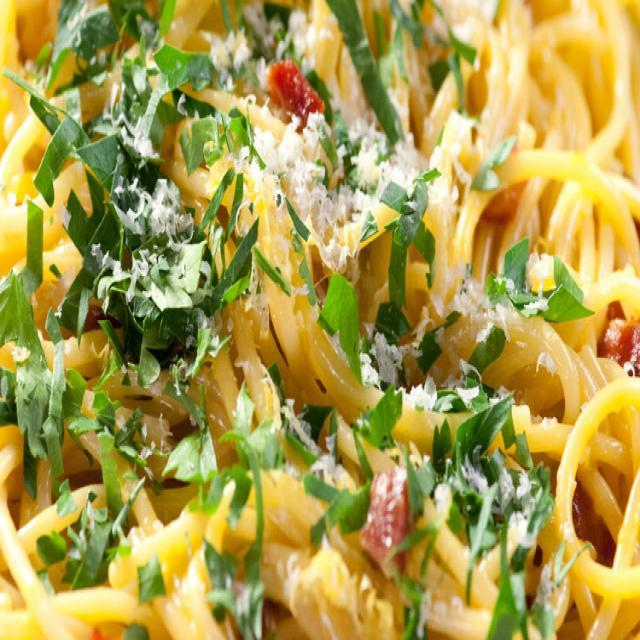Pasta with carbonara sauce: (9, 23, 619, 609)
